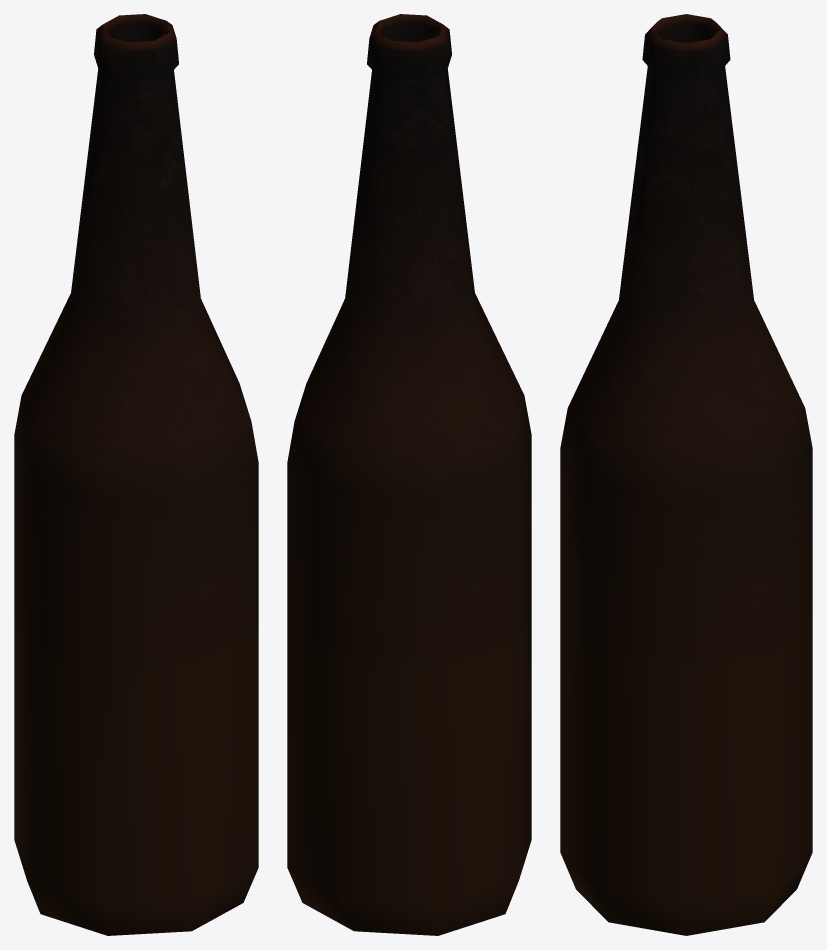
Rendered from Bin_A.fbx.
3 views of the same model, side by side, from view 1: azimuth 30°, elevation 25°; view 2: azimuth 150°, elevation 25°; view 3: azimuth 270°, elevation 25° (orthographic).
Visible parts, largest first — view 1: Bin_A; view 2: Bin_A; view 3: Bin_A.
Boxes of the visible parts, x1,y1,x2,y2 form: Bin_A: (14, 14, 258, 935); Bin_A: (287, 14, 531, 935); Bin_A: (560, 14, 812, 935).
Size of the model in its own units: 7.83 by 29.49 by 7.83.
1 material, 1 textured.
